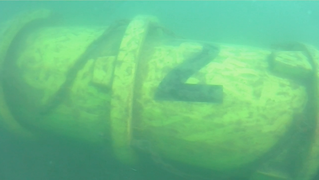2: (151, 39, 224, 105)
pipe: (1, 8, 319, 180)
